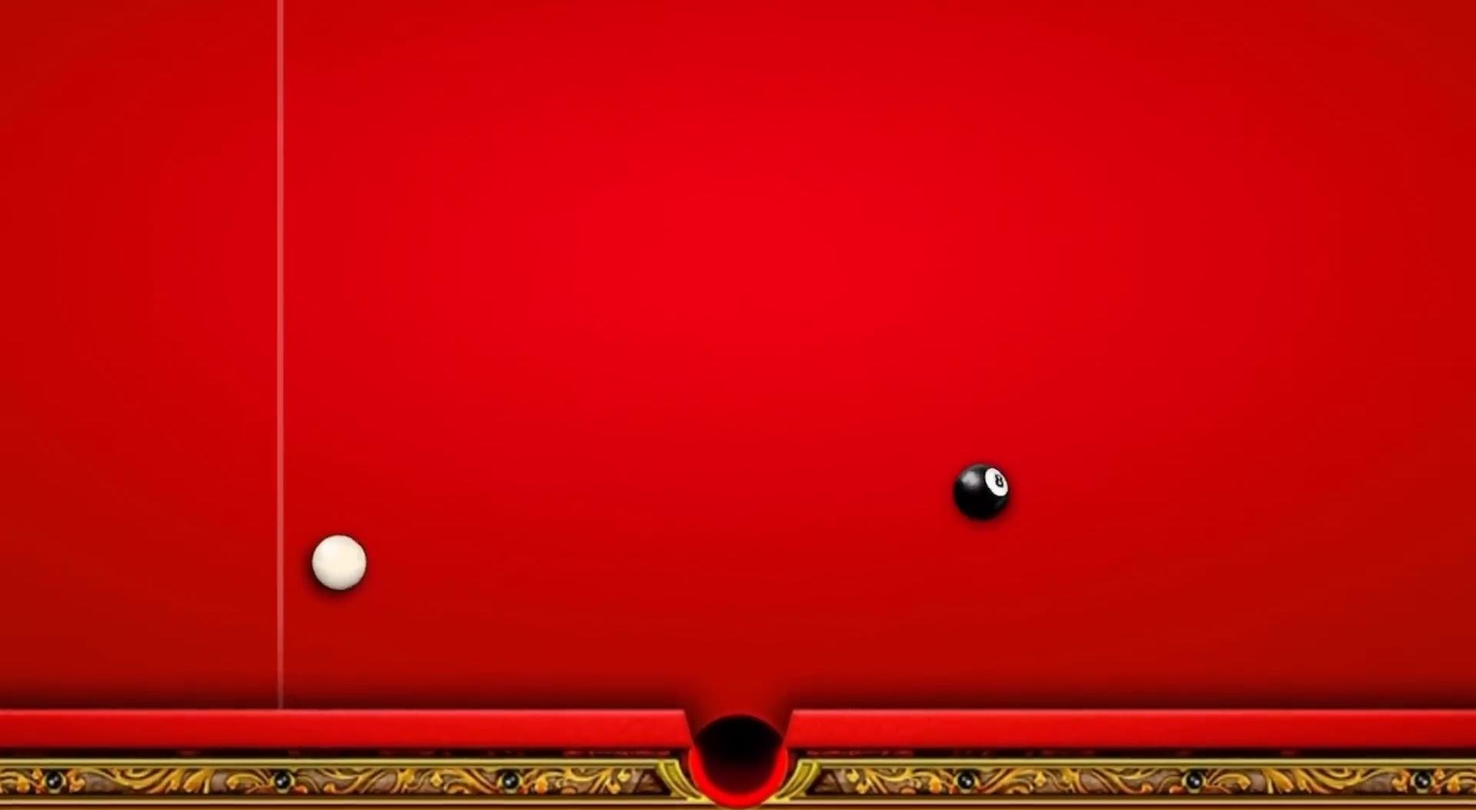Ball: (943, 457, 1018, 532)
Hole: (669, 686, 804, 808)
White: (301, 531, 370, 600)
